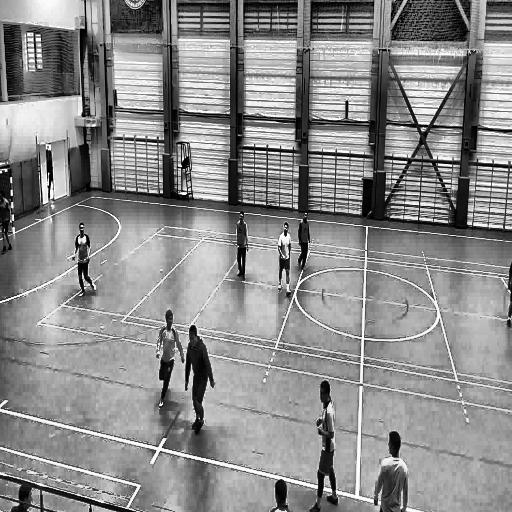player: (310, 377, 339, 512), (185, 324, 214, 438), (374, 425, 409, 512), (156, 309, 184, 409), (72, 222, 97, 300), (277, 221, 292, 300), (235, 210, 249, 282), (0, 187, 14, 256), (297, 209, 311, 273)
